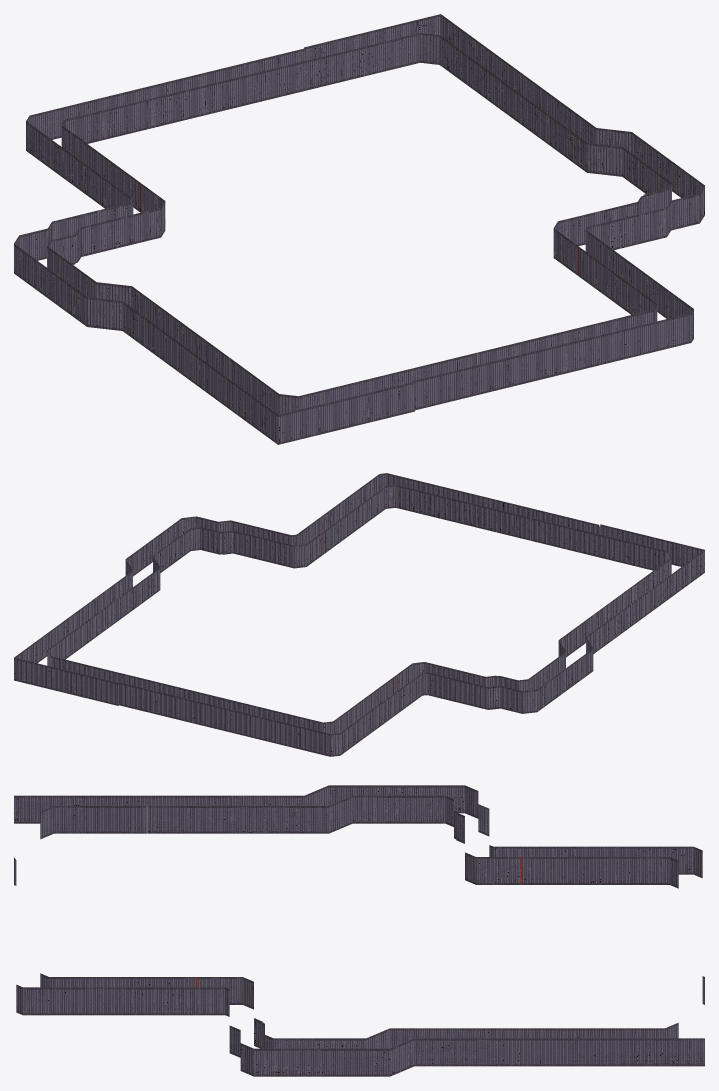
File: NetherRawTrack.glb
3 views of the same model, one above another, from view 1: azimuth 30°, elevation 25°; view 2: azimuth 150°, elevation 25°; view 3: azimuth 270°, elevation 25° (orthographic). The views are drawn at different scales.
Visible parts, largest first — view 1: blackstone_top.014; view 2: blackstone_top.014; view 3: blackstone_top.014.
Part boxes in pixels (bbox=[...]): blackstone_top.014: bbox=[14, 14, 704, 444]; blackstone_top.014: bbox=[14, 473, 704, 756]; blackstone_top.014: bbox=[14, 785, 704, 1076].
Size of the model in its own units: 283 by 14 by 314.
Materials: 7 (7 with a texture image).
